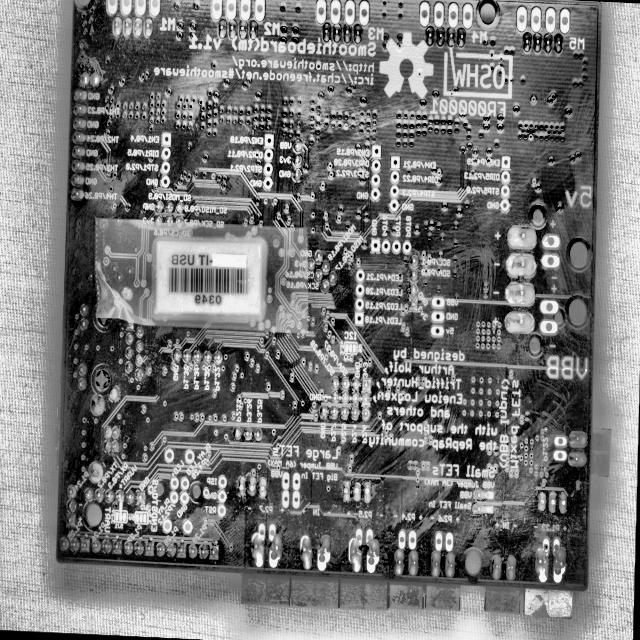PCB: (54, 4, 611, 612)
